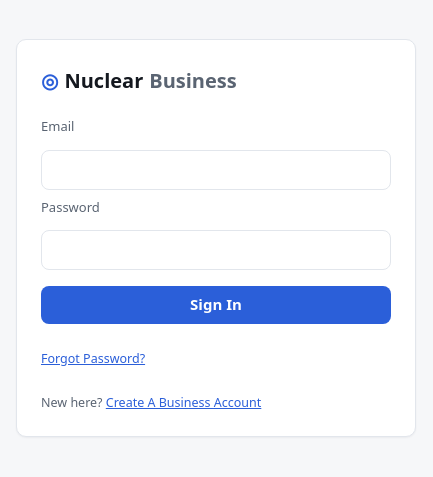
it: sign-in › explains a wrong password and clears it
In the field labelled "Email": (216, 170) [41, 150, 391, 190], type "a@b.co"
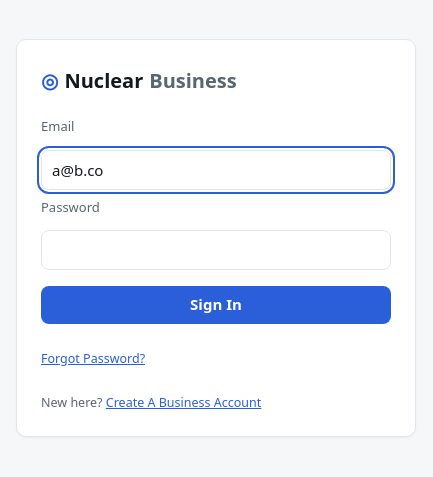
In the password field labelled "Password": (216, 250) [41, 230, 391, 270], type "nope"
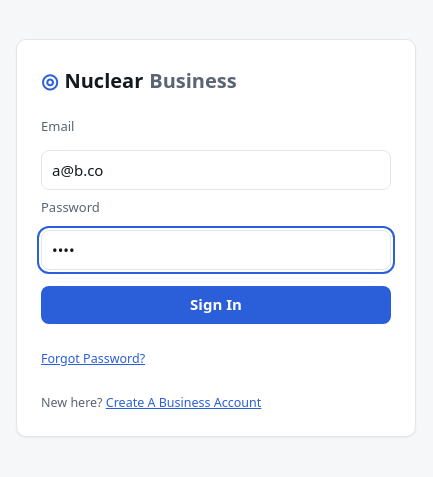
Click the button "Sign In": (216, 305) [41, 286, 391, 324]
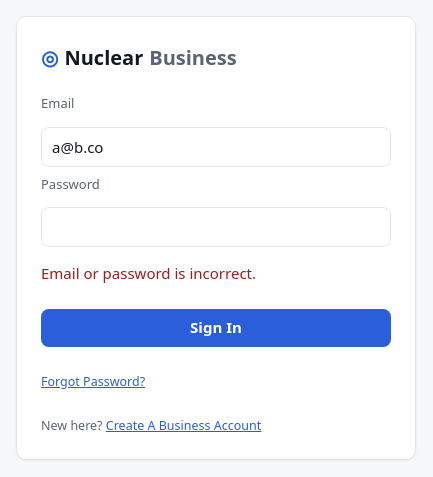
Expected: the text "Email or password is incorrect." is shown, [41, 264, 256, 284]
Expected: the password field labelled "Password" is empty, [41, 208, 391, 248]
